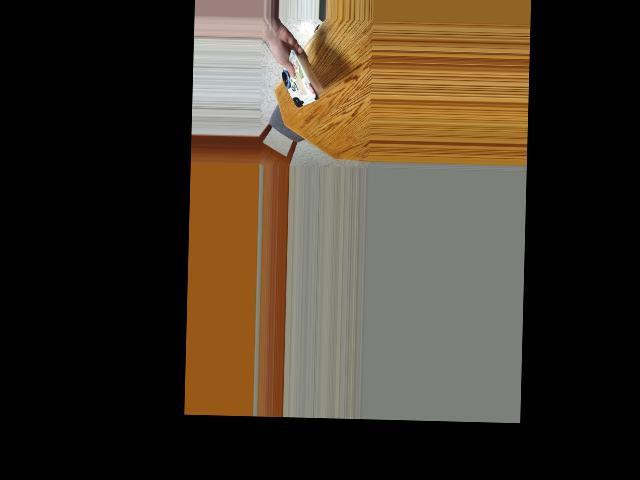cheese: (273, 58, 328, 105)
